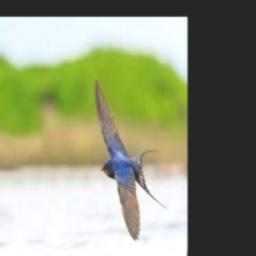Swallow: (95, 77, 167, 240)
